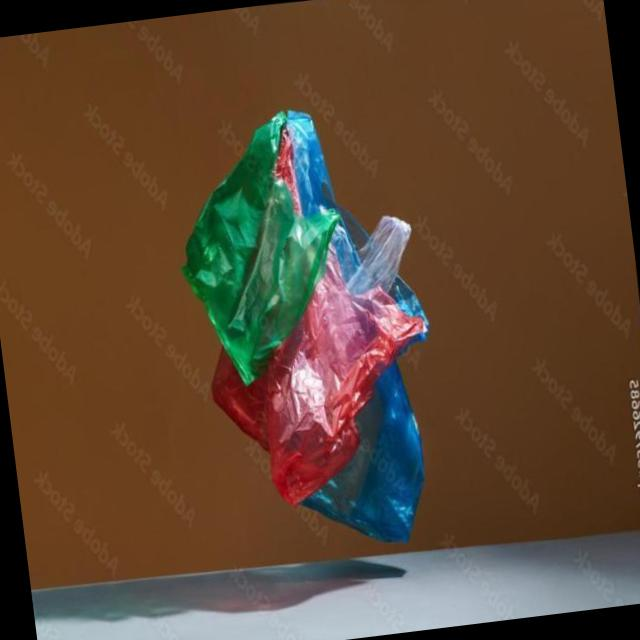KantongPlastik: (162, 92, 456, 566)
